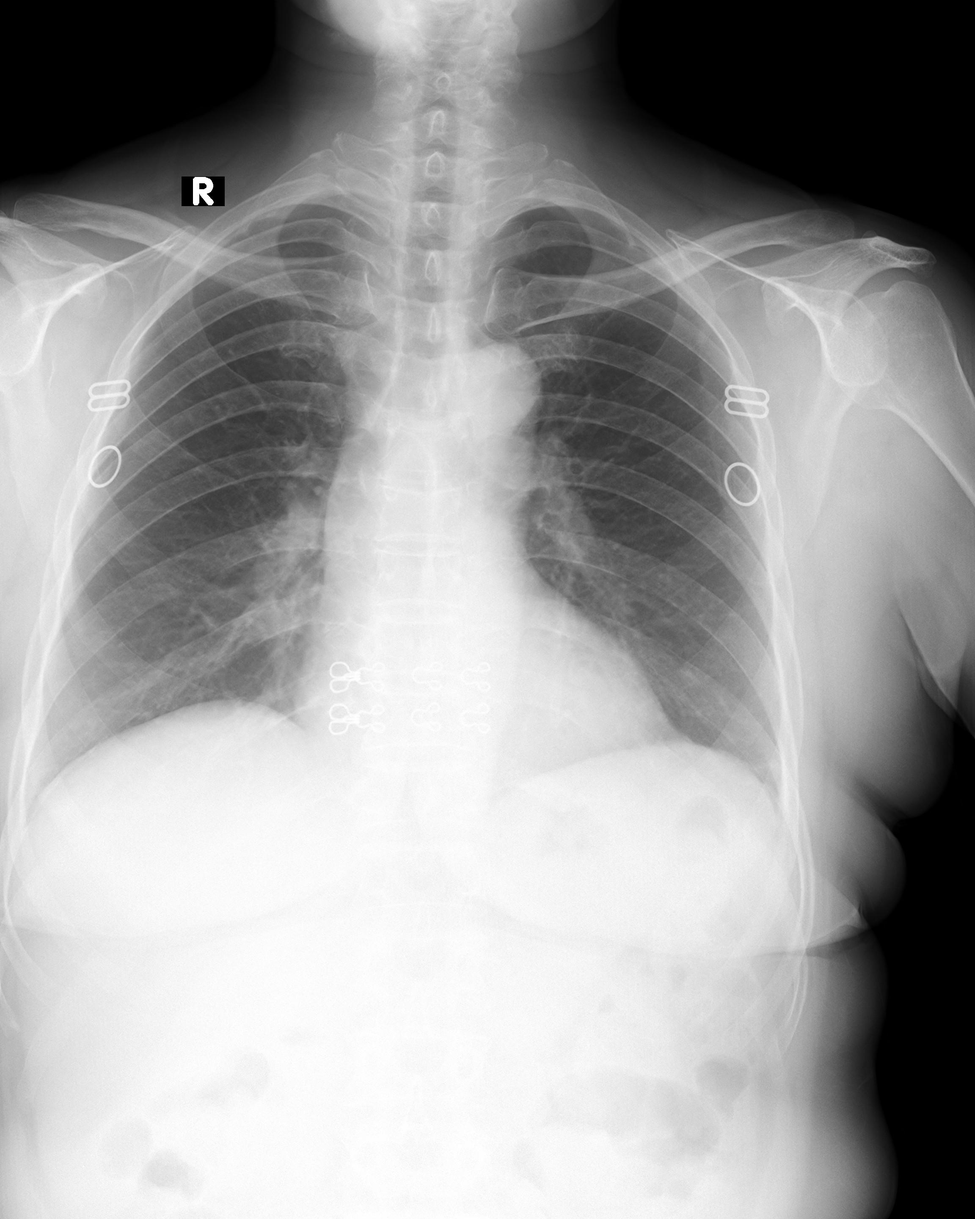Aortic enlargement: (330, 341, 537, 563)
Pleural thickening: (221, 201, 305, 245)
